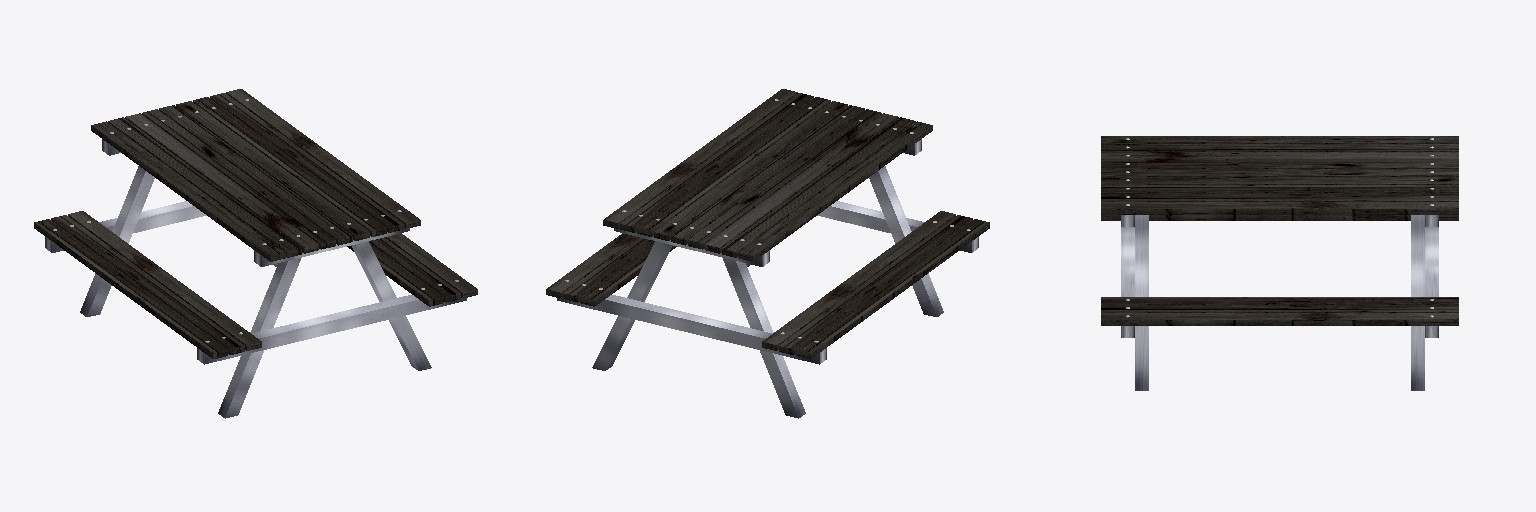
The picture shows the model from 3 angles: view 1: azimuth 30°, elevation 25°; view 2: azimuth 150°, elevation 25°; view 3: azimuth 270°, elevation 25°; orthographic projection.
Visible parts, largest first — view 1: Box001, Box007, Box006, Box004, LegSlant2, Box008, LegSlant4, Box005, Box002; view 2: Box001, Box007, Box006, Box005, Box008, LegSlant2, LegSlant3, Box004, Box003; view 3: Box001, Box006, LegSlant3, LegSlant4, Box007, Box004, Box005.
Boxes of the visible parts, x1,y1,x2,y2 form: Box001: [91, 89, 420, 261]; Box007: [34, 211, 261, 358]; Box006: [347, 233, 477, 306]; Box004: [197, 295, 466, 364]; LegSlant2: [218, 258, 300, 418]; Box008: [80, 166, 154, 316]; LegSlant4: [351, 241, 431, 370]; Box005: [45, 201, 206, 252]; Box002: [254, 228, 409, 266]; Box001: [603, 89, 932, 261]; Box007: [762, 211, 989, 358]; Box006: [546, 233, 676, 306]; Box005: [557, 295, 826, 364]; Box008: [723, 258, 805, 418]; LegSlant2: [869, 166, 943, 316]; LegSlant3: [592, 241, 672, 370]; Box004: [817, 201, 978, 252]; Box003: [614, 228, 769, 266]; Box001: [1101, 136, 1458, 214]; Box006: [1101, 297, 1458, 325]; LegSlant3: [1411, 215, 1424, 390]; LegSlant4: [1135, 215, 1148, 390]; Box007: [1101, 215, 1458, 220]; Box004: [1121, 227, 1134, 337]; Box005: [1425, 227, 1438, 337].
Size of the model in its own units: 32 by 19.49 by 37.56.
3 materials, 3 textured.